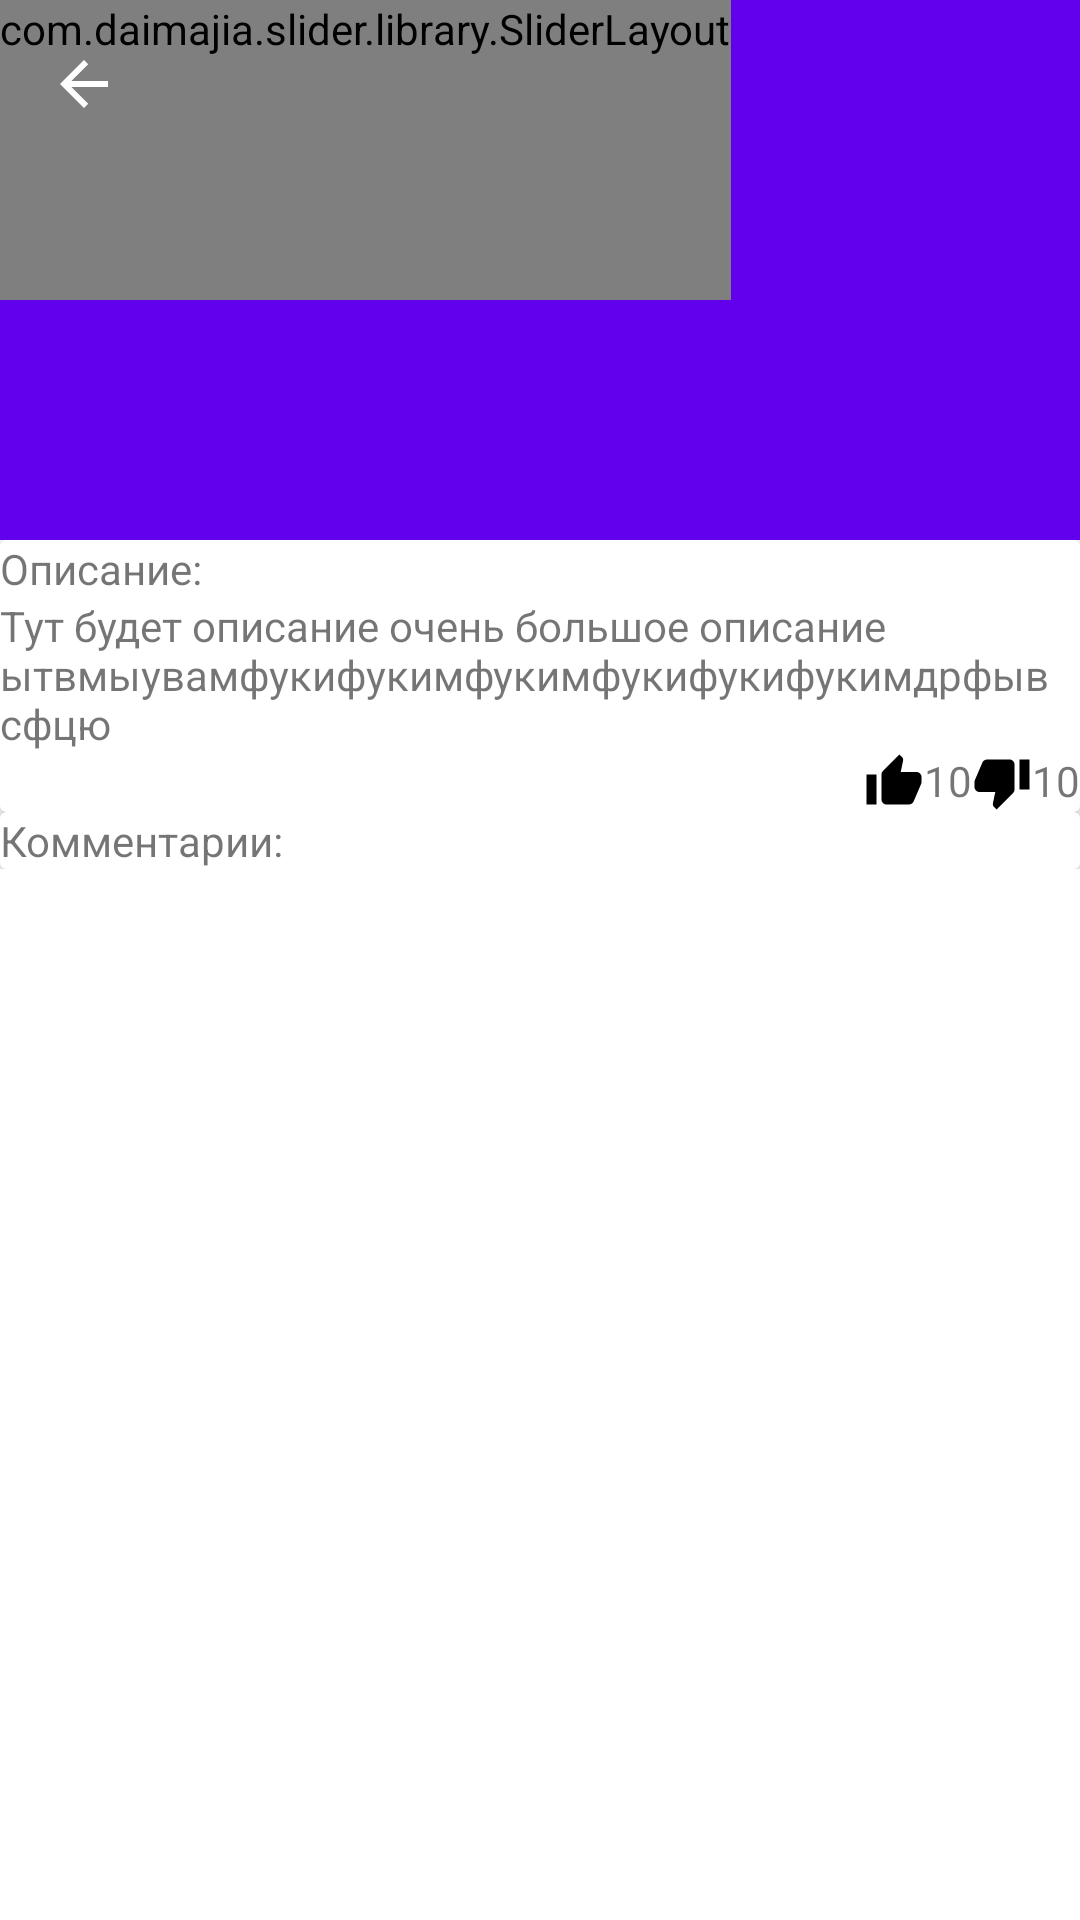

Icon bounding boxes for this 1080 × 1920 phone screenshot, format (x1, y1, x2, y2):
dislike: (974, 759, 1030, 810)
like: (866, 754, 922, 805)
